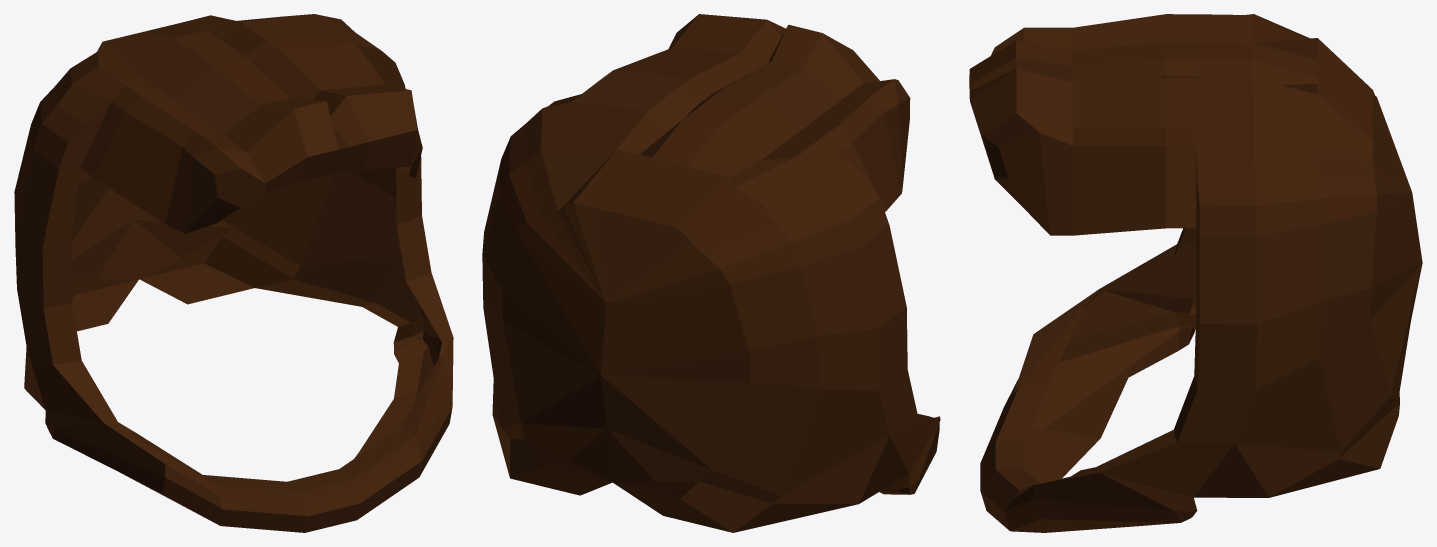
Rendered from HairPako.fbx.
The picture shows the model from 3 angles, left to right: view 1: azimuth 30°, elevation 25°; view 2: azimuth 150°, elevation 25°; view 3: azimuth 270°, elevation 25°; orthographic projection. The views are drawn at different scales.
Visible parts, largest first — view 1: PakoHair; view 2: PakoHair; view 3: PakoHair.
Boxes of the visible parts, box(x1,y1,x2,y2) form: PakoHair: box(14, 14, 453, 532); PakoHair: box(482, 14, 940, 532); PakoHair: box(969, 14, 1422, 532).
Bounding box in the file's own units: 24.63 × 25.79 × 23.74.
